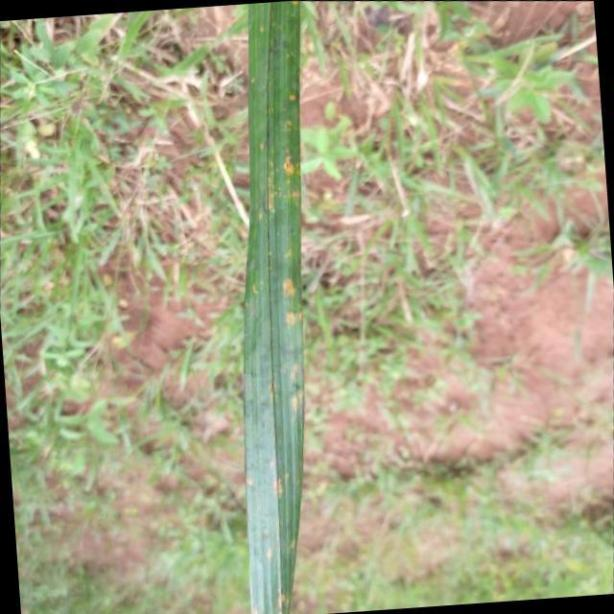Kalium: (244, 0, 300, 614)
